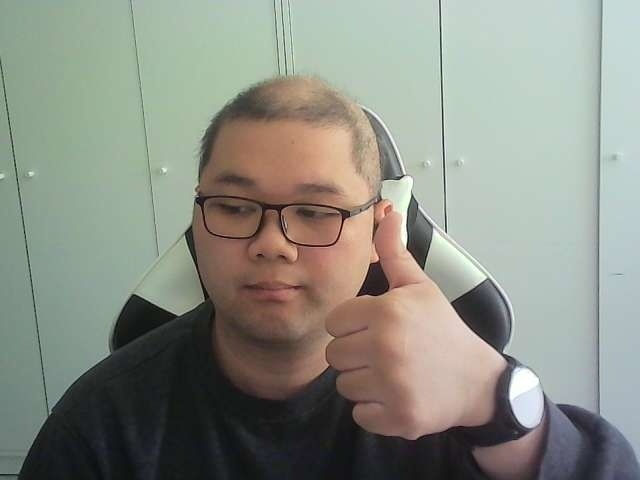One: (326, 212, 472, 442)
